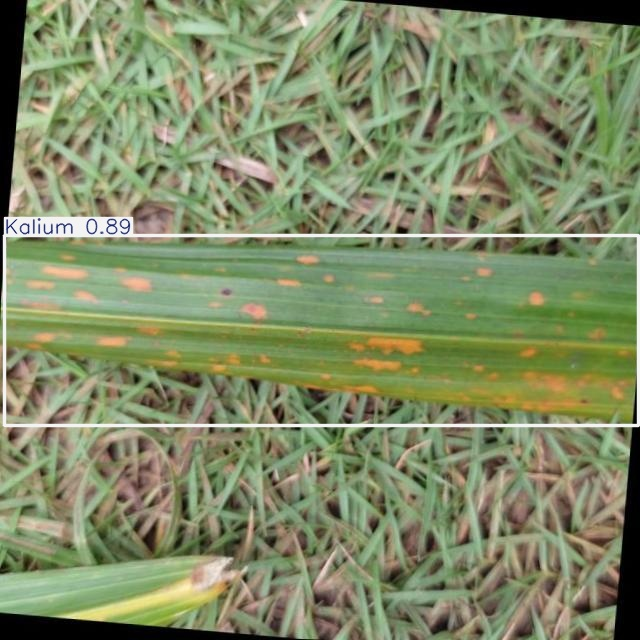Kalium: (4, 236, 638, 426)
